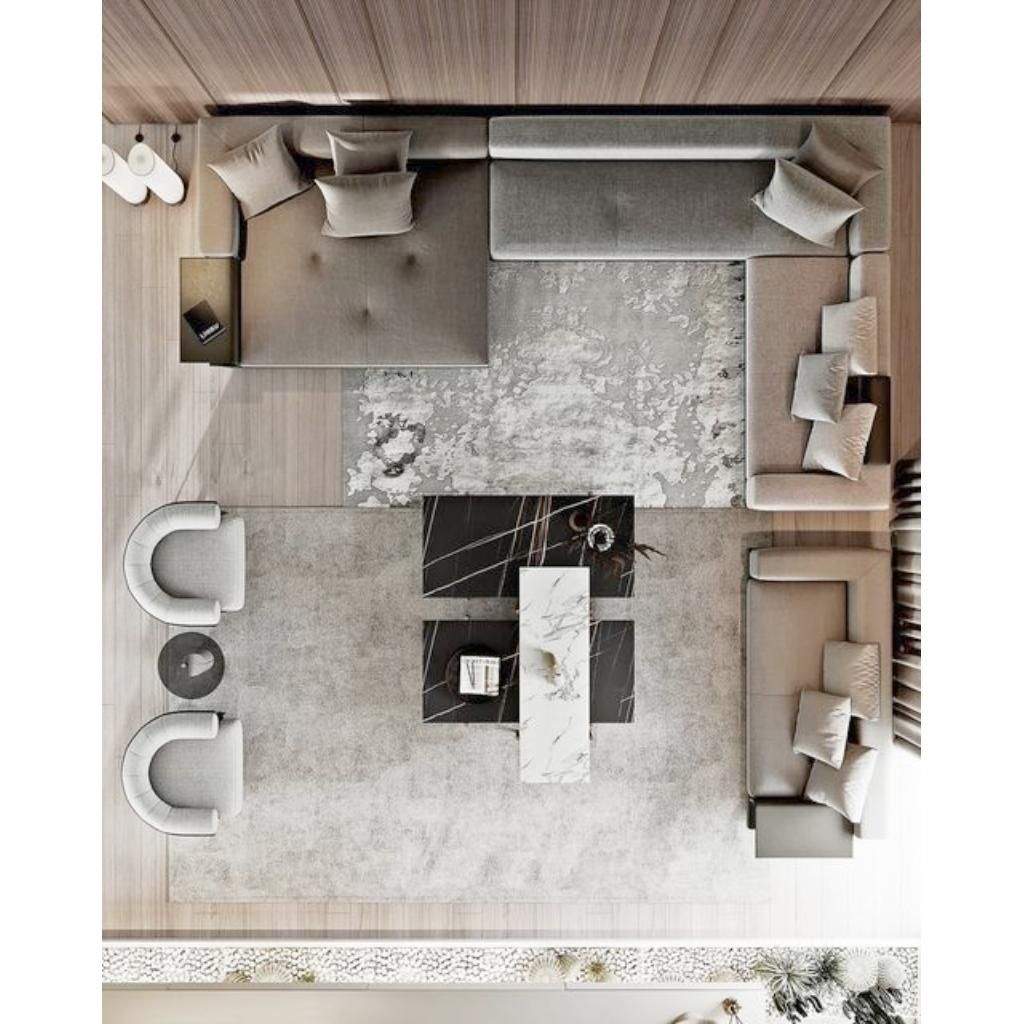chair: (121, 708, 247, 838), (124, 500, 250, 626)
chair-bed: (196, 118, 486, 364)
coffee table: (420, 496, 638, 784)
floor lamp: (110, 135, 184, 211)
rug: (164, 509, 764, 901), (344, 170, 816, 506)
side table: (156, 637, 230, 699)
sofa: (491, 118, 889, 254), (743, 550, 893, 860), (746, 260, 890, 510)
window: (902, 460, 922, 938)
